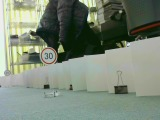speed_30: (38, 46, 58, 66)
